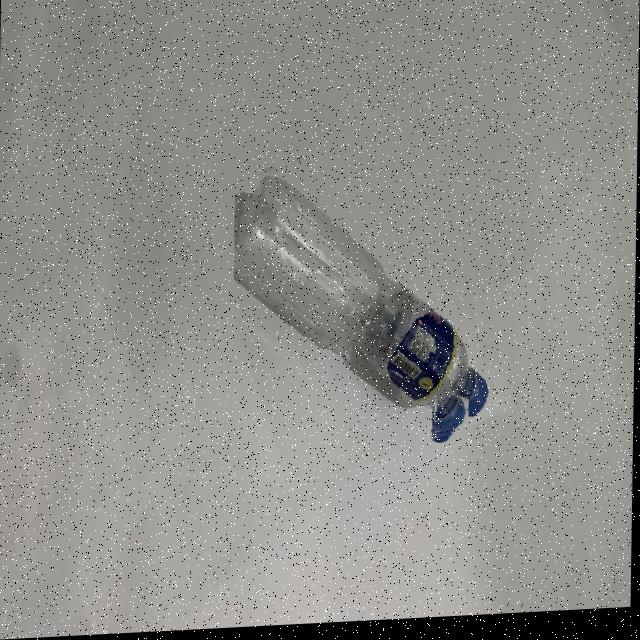litter: (231, 121, 507, 472), (435, 400, 469, 440)
